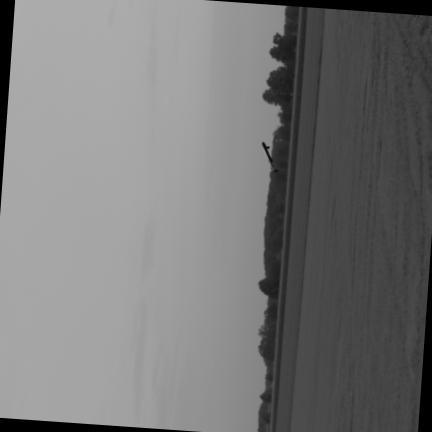Shahed: (260, 140, 278, 171)
